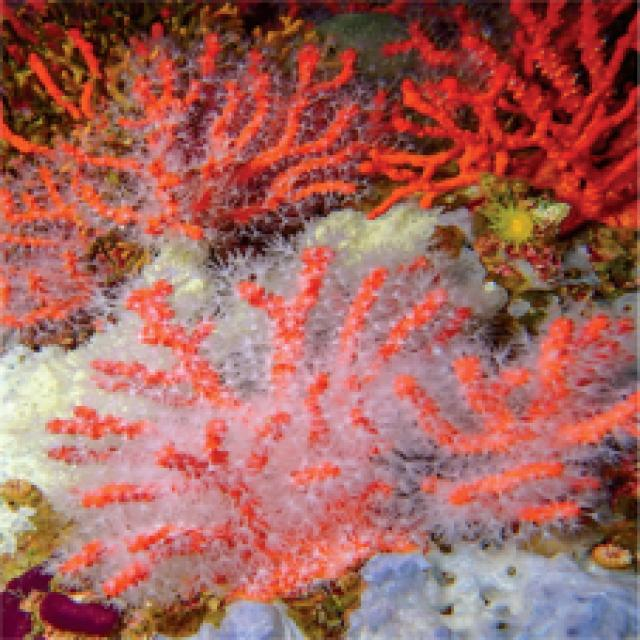Bleached: (348, 548, 638, 638)
Healthy: (1, 204, 633, 604), (1, 24, 359, 325), (373, 1, 638, 215), (401, 320, 638, 523)
